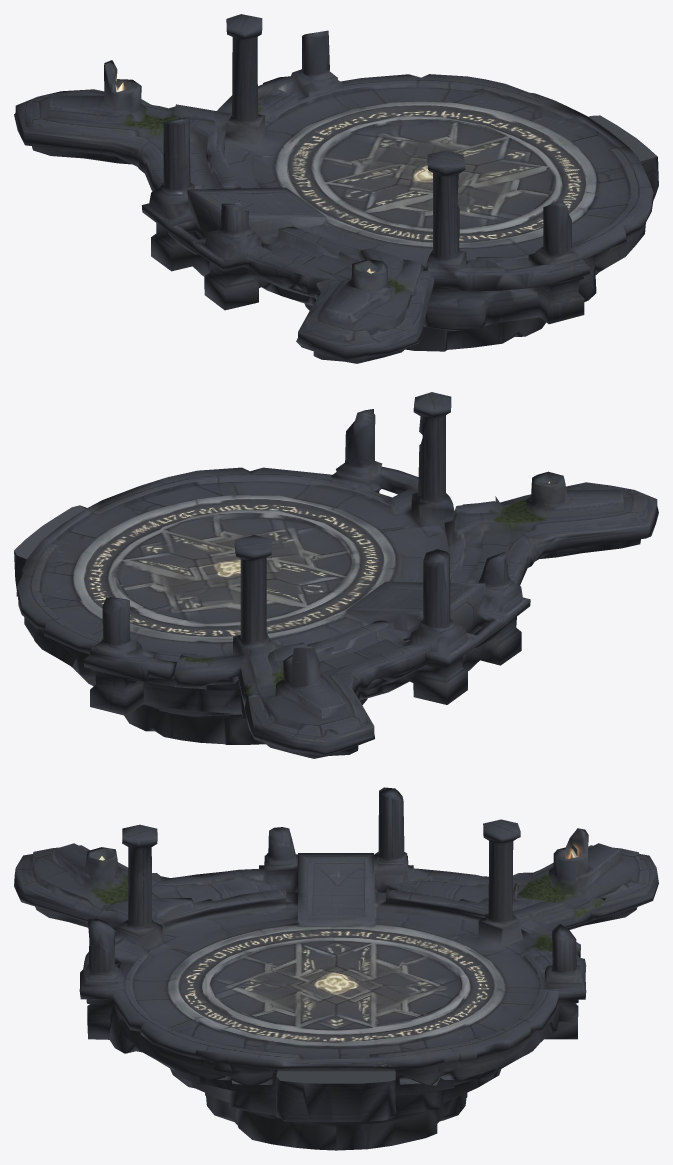
File: ArcanumPlatform.fbx
3 renders of one model, top to bottom at view 1: azimuth 30°, elevation 25°; view 2: azimuth 150°, elevation 25°; view 3: azimuth 270°, elevation 25°, orthographic. The views are drawn at different scales.
Parts seen in each view (by area): view 1: tripo_node_b30d3753; view 2: tripo_node_b30d3753; view 3: tripo_node_b30d3753.
Boxes of the visible parts, box(x1,y1,x2,y2) form: tripo_node_b30d3753: box(14, 14, 658, 363); tripo_node_b30d3753: box(14, 392, 658, 758); tripo_node_b30d3753: box(14, 787, 658, 1150).
Size of the model in its own units: 7977 by 3747 by 9937.
